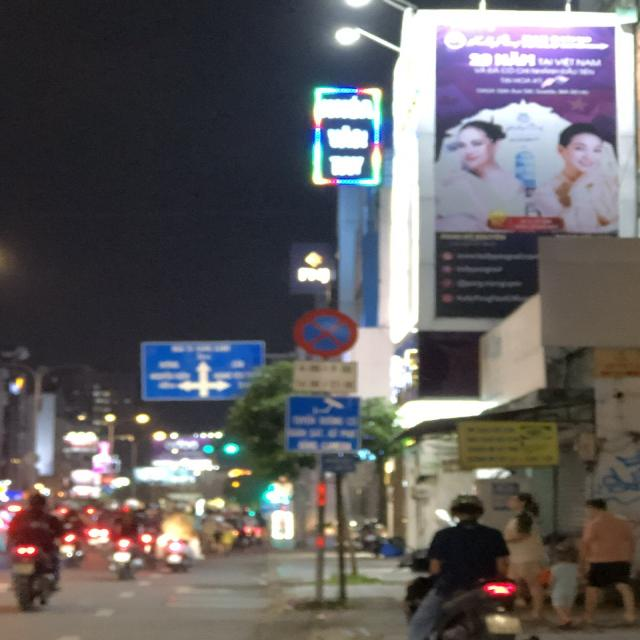Bien bao cam dung xe va do xe: (288, 302, 366, 363)
